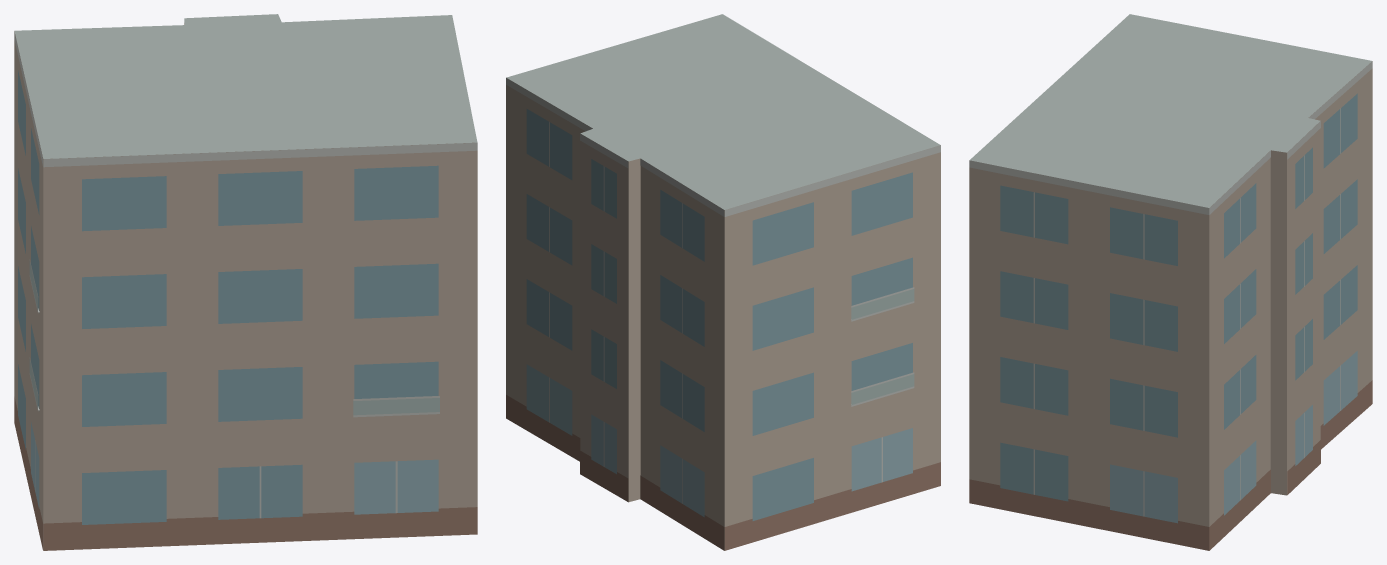
File: survey-upis-32955760.glb
3 renders of one model, left to right at view 1: azimuth 30°, elevation 25°; view 2: azimuth 150°, elevation 25°; view 3: azimuth 270°, elevation 25°, orthographic. The views are drawn at different scales.
Parts seen in each view (by area): view 1: survey-upis-32955760.tmp; view 2: survey-upis-32955760.tmp; view 3: survey-upis-32955760.tmp.
Part boxes in pixels (box(x1,y1,x2,y2)): survey-upis-32955760.tmp: box(14, 14, 477, 550); survey-upis-32955760.tmp: box(506, 14, 940, 550); survey-upis-32955760.tmp: box(969, 14, 1372, 550).
Size of the model in its own units: 14.21 by 11.7 by 12.48.
